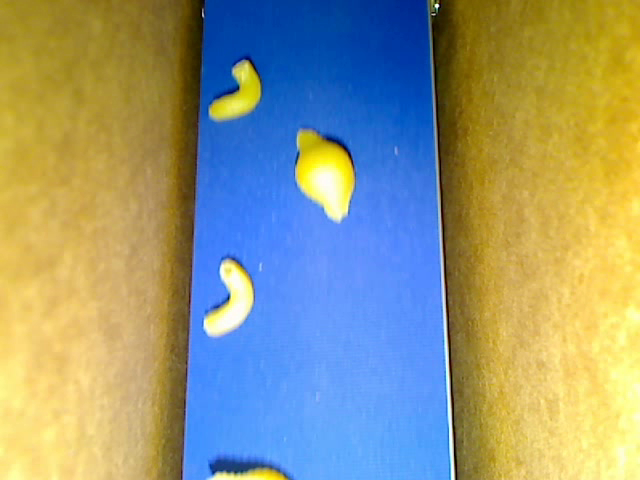elbow: (202, 257, 253, 338), (209, 60, 262, 121)
shell: (294, 129, 355, 223), (207, 465, 290, 479)
